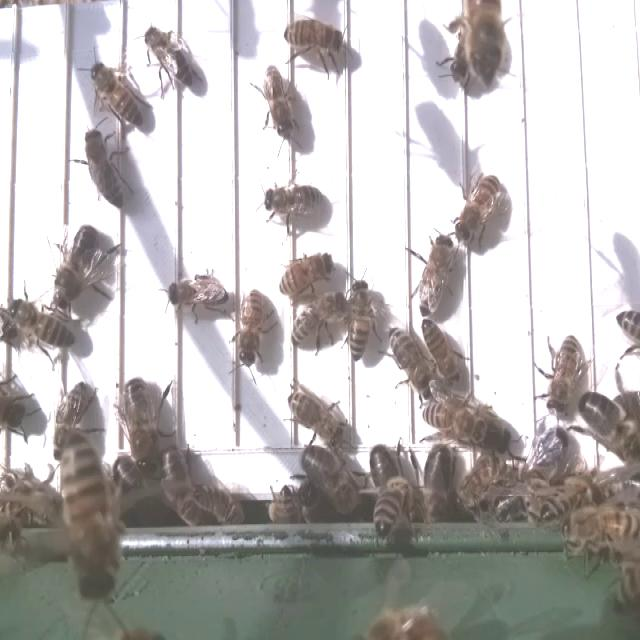Drone: (50, 221, 101, 314), (121, 372, 162, 481)
Worker: (87, 58, 143, 134), (81, 126, 126, 212), (6, 298, 79, 350), (454, 170, 502, 247), (384, 323, 434, 396), (282, 388, 348, 443), (417, 232, 457, 322), (141, 26, 197, 90), (417, 396, 486, 447), (542, 334, 583, 419), (287, 291, 345, 350), (419, 315, 461, 387), (164, 271, 228, 314), (282, 15, 345, 58), (262, 63, 294, 142), (277, 252, 334, 296), (238, 287, 267, 371), (347, 276, 374, 364), (261, 180, 323, 218)
